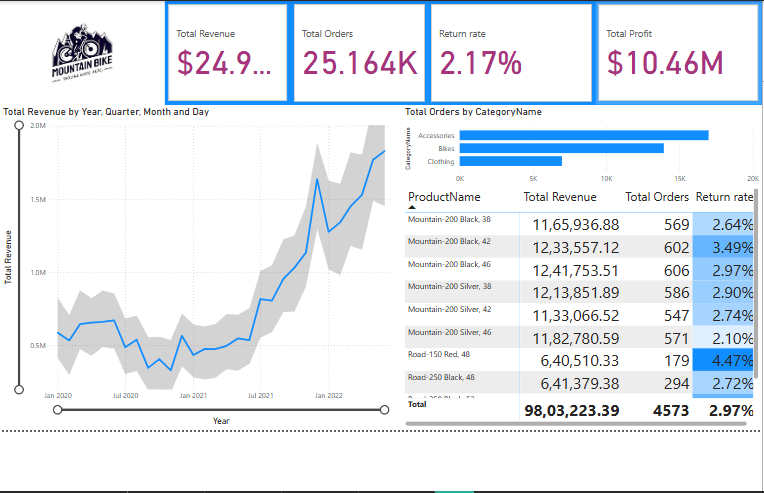

Layout of this report page (visuals, bound fields, positions):
{"tool":"powerbi","page":{"name":"Page 2","canvas":[1280,720],"ordinal":1},"visuals":[{"type":"cardVisual","fields":{"Data":["Measure Table.Total Revenue"]},"box":[277.2,0,211.7,174.7],"z":0,"group":"g1"},{"type":"group","id":"g1","title":"Group 1","box":[277.2,0,1002.8,174.7],"z":0},{"type":"image","box":[0,0,277.2,174.7],"z":1000},{"type":"cardVisual","fields":{"Data":["Measure Table.Total Profit"]},"box":[999.5,0,280.5,174.7],"z":1000,"group":"g1"},{"type":"cardVisual","fields":{"Data":["Measure Table.Total Orders"]},"box":[488.9,0,230.1,174.7],"z":2000,"group":"g1"},{"type":"pivotTable","fields":{"Rows":["Product Lookup.ProductName"],"Values":["Measure Table.Total Revenue","Measure Table.Total Orders","Measure Table.Return rate"]},"box":[676,308,604,412],"z":2000},{"type":"cardVisual","fields":{"Data":["Measure Table.Return rate"]},"box":[719,0,280.5,174.7],"z":3000,"group":"g1"},{"type":"clusteredBarChart","fields":{"Category":["Product Categories Lookup.CategoryName"],"Y":["Measure Table.Total Orders"]},"box":[675.3,174.7,604.7,141.1],"z":3000},{"type":"lineChart","fields":{"Y":["Measure Table.Total Revenue"],"Category":["Calendar Lookup.Start of Month.Variation.Date Hierarchy.Year","Calendar Lookup.Start of Month.Variation.Date Hierarchy.Quarter","Calendar Lookup.Start of Month.Variation.Date Hierarchy.Month","Calendar Lookup.Start of Month.Variation.Date Hierarchy.Day"]},"box":[0,174.7,675.3,544.3],"z":4000}]}

Visuals, with their boxes on the page's 1280x720 design canvas (x1, y1, x2, y2). These are canvas units, not pixel positions in the 764x493 screenshot, which may show the page scaled, cropped or inside an application window:
cardVisual - Measure Table.Total Revenue: l=277, t=0, r=489, b=175
"Group 1" group: l=277, t=0, r=1280, b=175
image: l=0, t=0, r=277, b=175
cardVisual - Measure Table.Total Profit: l=1000, t=0, r=1280, b=175
cardVisual - Measure Table.Total Orders: l=489, t=0, r=719, b=175
pivotTable - Product Lookup.ProductName x Measure Table.Total Revenue: l=676, t=308, r=1280, b=720
cardVisual - Measure Table.Return rate: l=719, t=0, r=1000, b=175
clusteredBarChart - Product Categories Lookup.CategoryName x Measure Table.Total Orders: l=675, t=175, r=1280, b=316
lineChart - Measure Table.Total Revenue x Calendar Lookup.Start of Month.Variation.Date Hierarchy.Year: l=0, t=175, r=675, b=719
